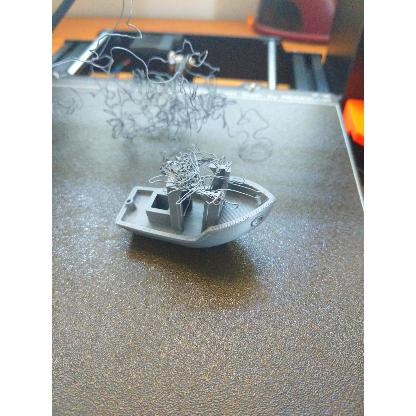fail: (100, 57, 260, 135), (150, 148, 235, 214)
